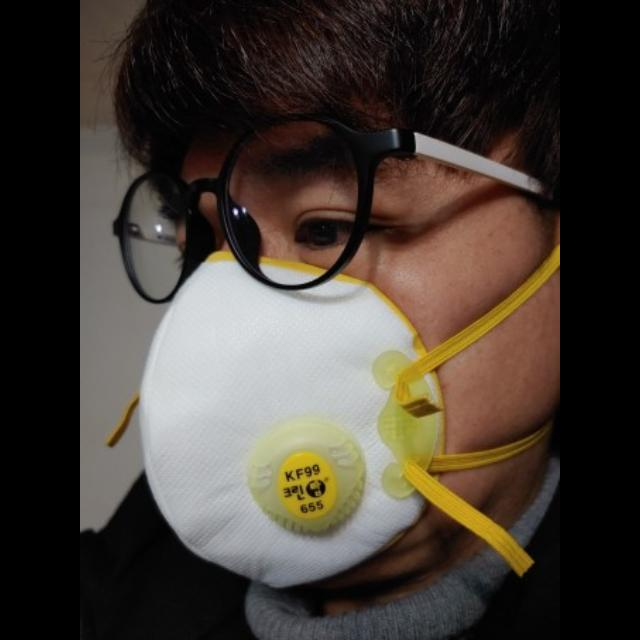masks: (117, 248, 497, 616)
